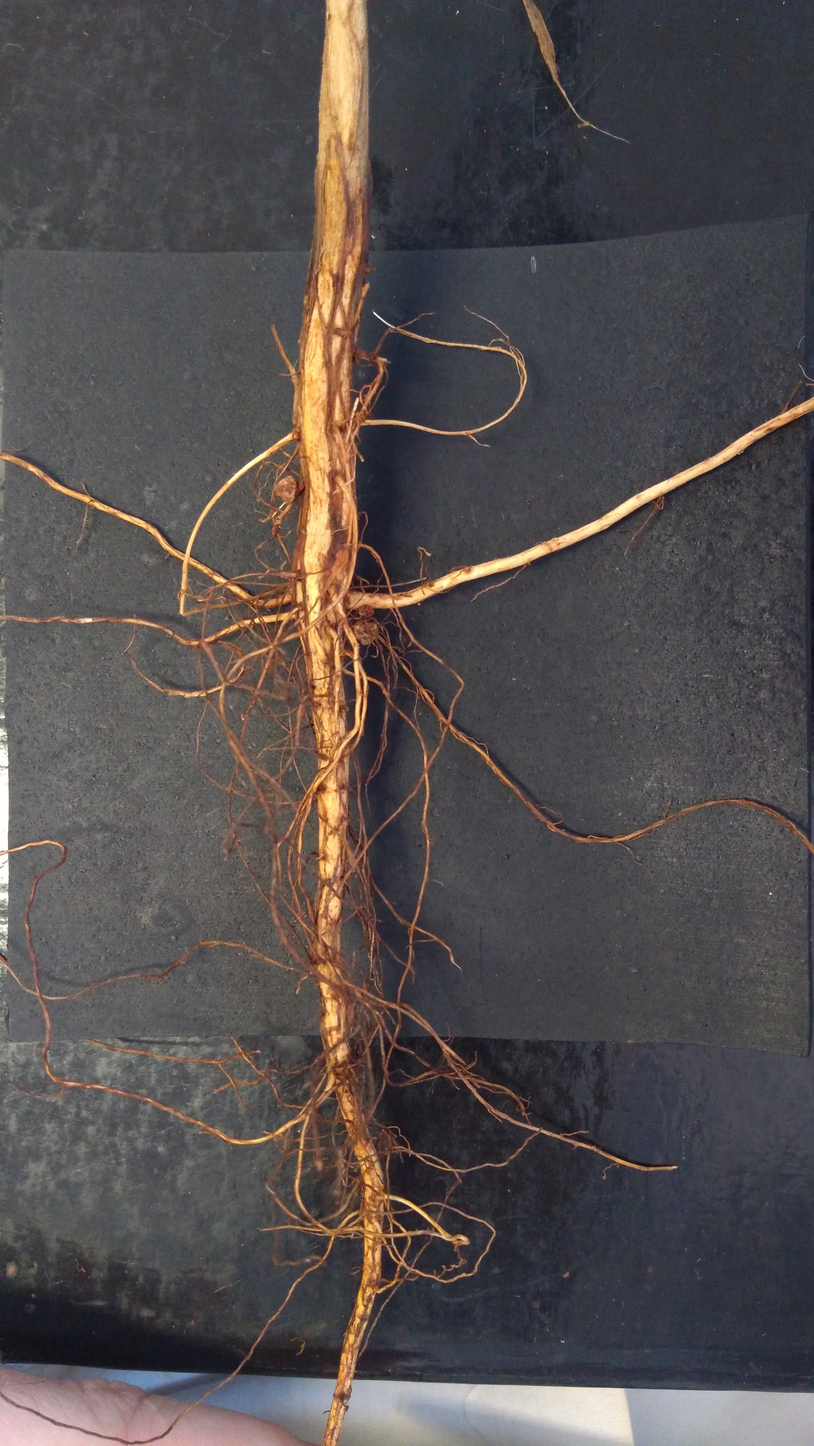nodule: (353, 619, 379, 646), (273, 475, 297, 504), (315, 602, 338, 629), (358, 604, 374, 618), (354, 410, 366, 424), (292, 425, 302, 440), (417, 602, 420, 606)
